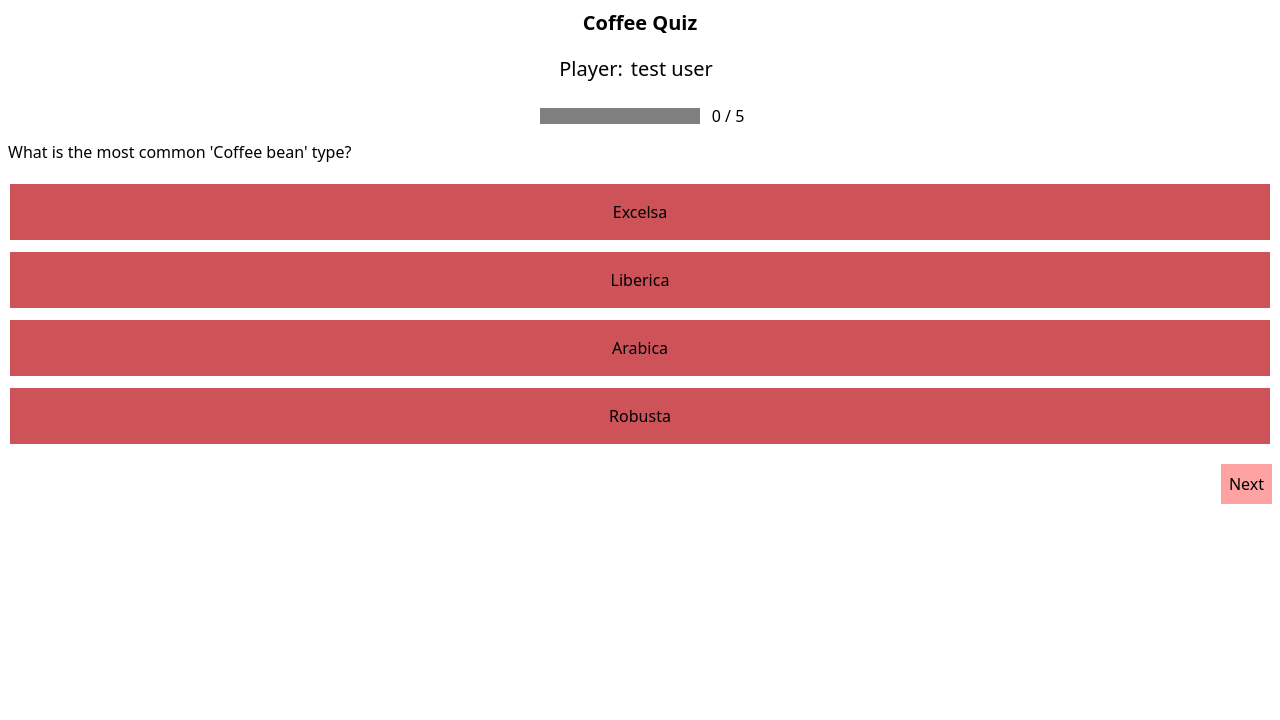
Test: should render disabled 'Alternatives' item when one of them is clicked
Expected: the button "Liberica" is enabled, [603,260,677,300]
Expected: the button "Arabica" is enabled, [604,328,676,368]
Click the button "Excelsa" at (640, 212), box [605,192,675,232]
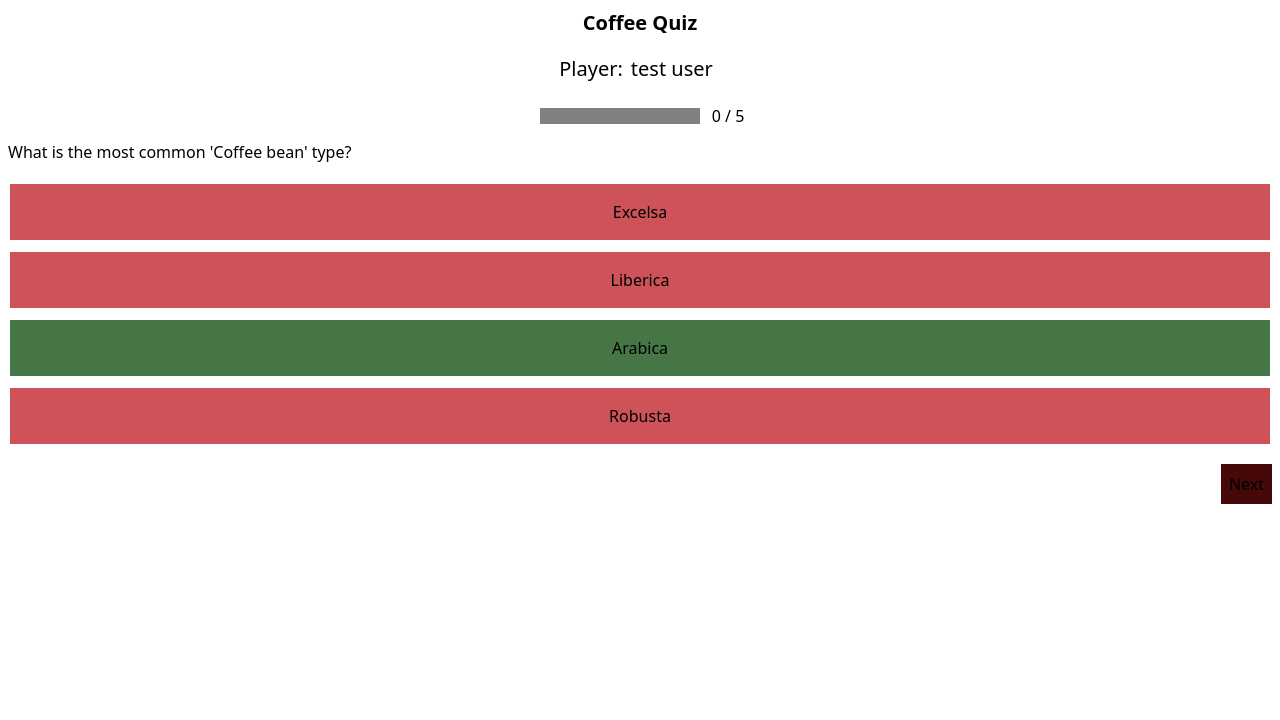
Expected: the button "Liberica" is disabled, [603,260,677,300]
Now the button "Arabica" is disabled, box [604,328,676,368]
